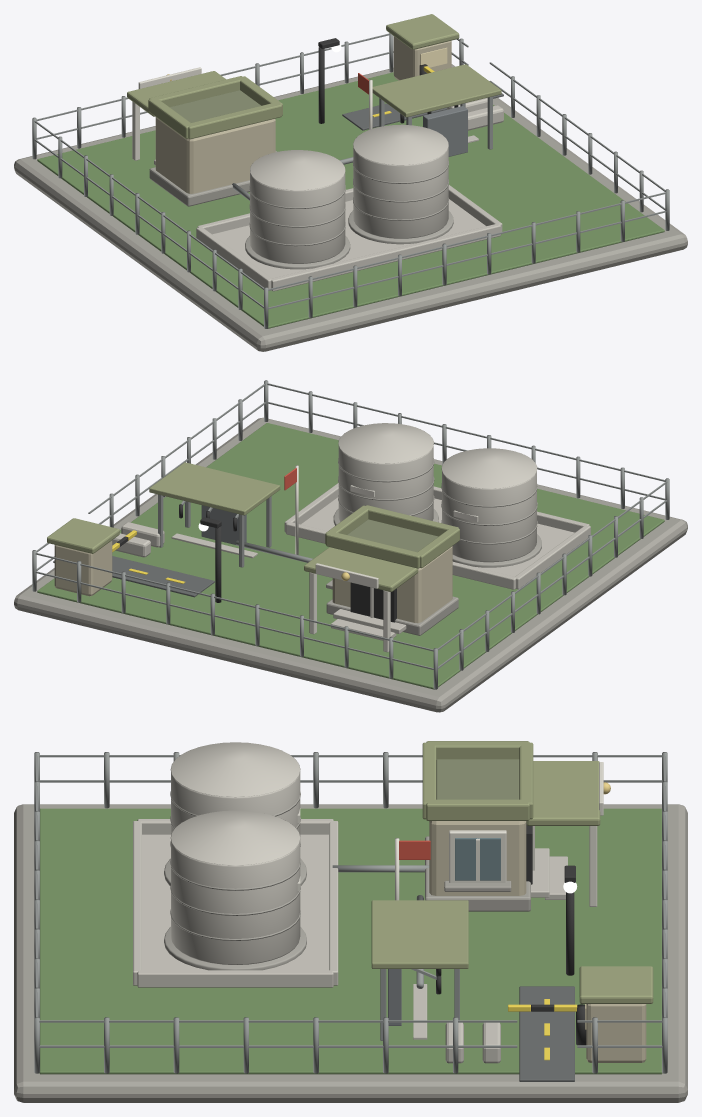
The model's file is fueldepot_5.glb.
3 renders of one model, top to bottom at view 1: azimuth 30°, elevation 25°; view 2: azimuth 150°, elevation 25°; view 3: azimuth 270°, elevation 25°, orthographic. The views are drawn at different scales.
Visible parts, largest first — view 1: Cube.001, Cube, Cylinder.002, Cylinder.007, Cube.021, Cube.044, Cone, Cone.001, Cube.016, Cube.014, Cube.007, Cube.028 (+22 smaller); view 2: Cube.001, Cube, Cylinder.002, Cylinder.007, Cube.044, Cube.021, Cone, Cone.001, Cube.006, Cube.034, Cube.002, Cube.014 (+27 smaller); view 3: Cube.001, Cube, Cylinder.007, Cube.014, Cube.044, Cone.001, Cone, Cube.002, Cube.034, Cube.021, Cube.017, Cube.027 (+28 smaller).
Boxes of the visible parts, x1,y1,x2,y2 form: Cube.001: (37,72,664,328); Cube: (14,64,687,351); Cylinder.002: (250,173,345,263); Cylinder.007: (353,147,448,238); Cube.021: (155,117,275,193); Cube.044: (372,64,501,117); Cone: (250,150,345,190); Cone.001: (353,124,448,165); Cube.016: (271,223,500,291); Cube.014: (212,199,485,278); Cube.007: (386,14,459,49); Cube.028: (186,102,281,139); Cube.001: (37,423,664,689); Cube: (14,417,687,712); Cylinder.002: (442,471,536,562); Cylinder.007: (338,446,433,521); Cube.044: (149,462,280,515); Cube.021: (332,546,452,623); Cone: (441,448,537,488); Cone.001: (338,423,433,463); Cube.006: (54,540,112,596); Cube.034: (304,547,418,591); Cube.002: (53,556,214,597); Cube.014: (301,497,574,576); Cube.001: (39,808,662,1074); Cube: (14,804,687,1102); Cylinder.007: (171,840,300,964); Cube.014: (142,834,328,970); Cube.044: (371,900,468,968); Cone.001: (170,810,300,865); Cone: (170,742,300,797); Cube.002: (519,986,574,1081); Cube.034: (526,761,600,825); Cube.021: (429,821,526,895); Cube.017: (137,970,333,987); Cube.027: (436,759,519,799).
Size of the model in its own units: 2.92 by 0.715 by 2.92.
